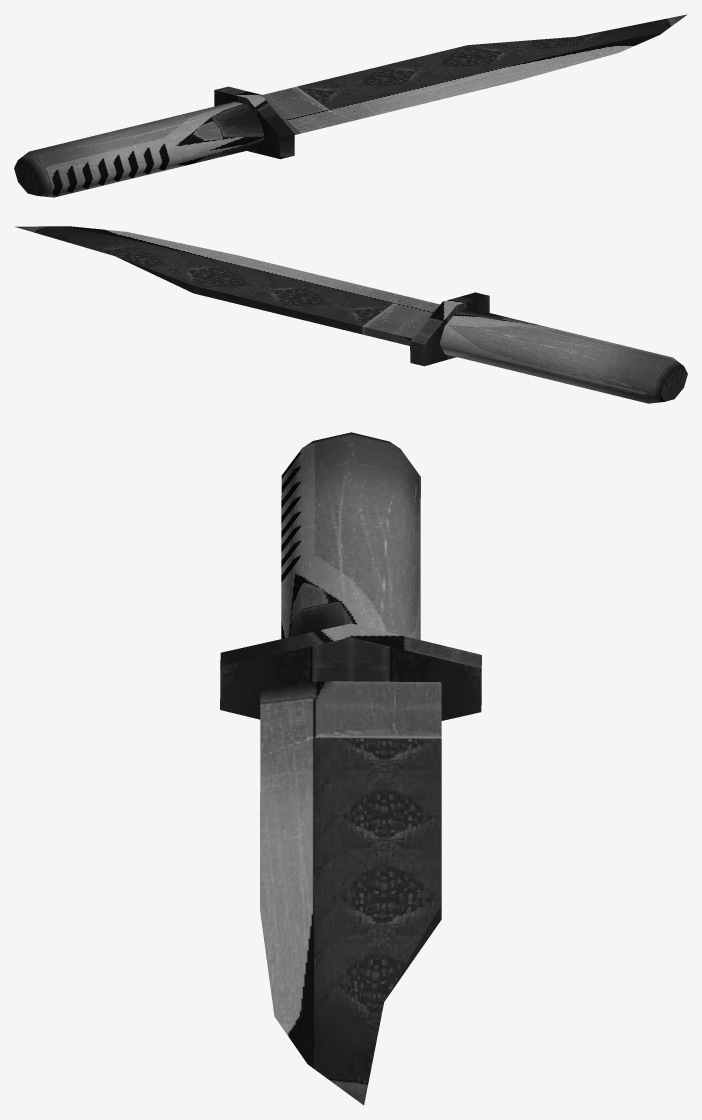
The model's file is viewmodel_knife.glb.
3 views of the same model, one above another, from view 1: azimuth 30°, elevation 25°; view 2: azimuth 150°, elevation 25°; view 3: azimuth 270°, elevation 25° (orthographic). The views are drawn at different scales.
Parts seen in each view (by area): view 1: viewmodel_knife; view 2: viewmodel_knife; view 3: viewmodel_knife.
Boxes of the visible parts, x1,y1,x2,y2 form: viewmodel_knife: [14, 14, 687, 197]; viewmodel_knife: [15, 226, 687, 403]; viewmodel_knife: [220, 432, 481, 1105].
Size of the model in its own units: 0.3626 by 0.0275 by 0.0625.
1 material, 1 textured.
